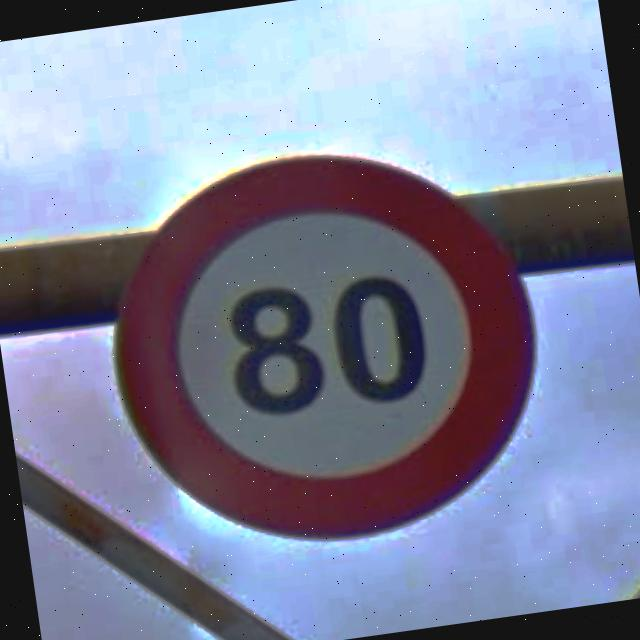max80: (86, 123, 562, 568)
